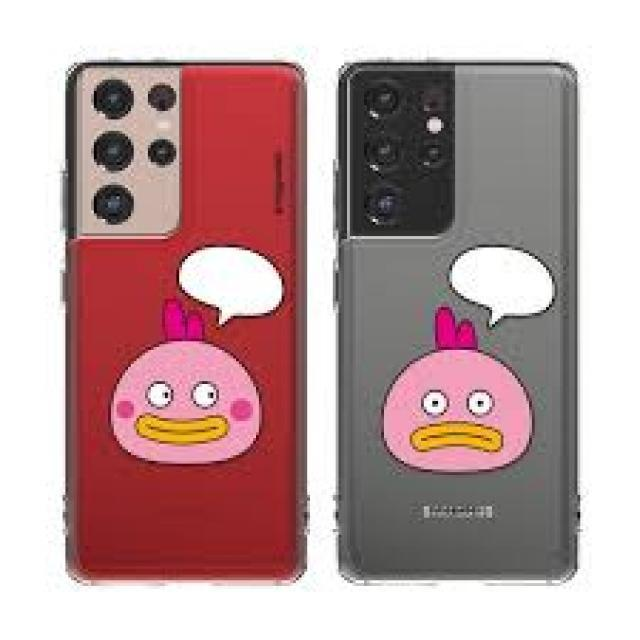lens: (83, 68, 181, 236), (354, 74, 448, 234)
phone: (60, 58, 309, 586), (337, 59, 582, 586)
